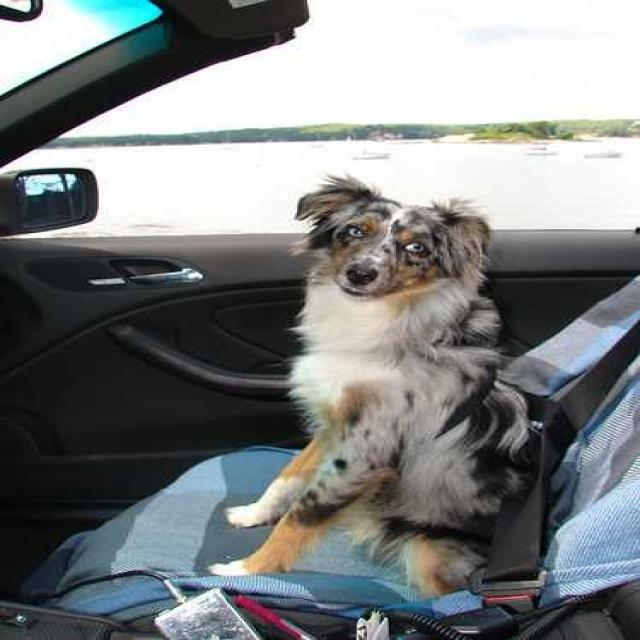seatbelt: (461, 418, 578, 610)
